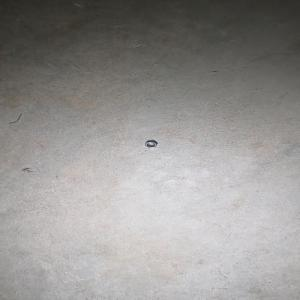Nut: (144, 140, 157, 148)
